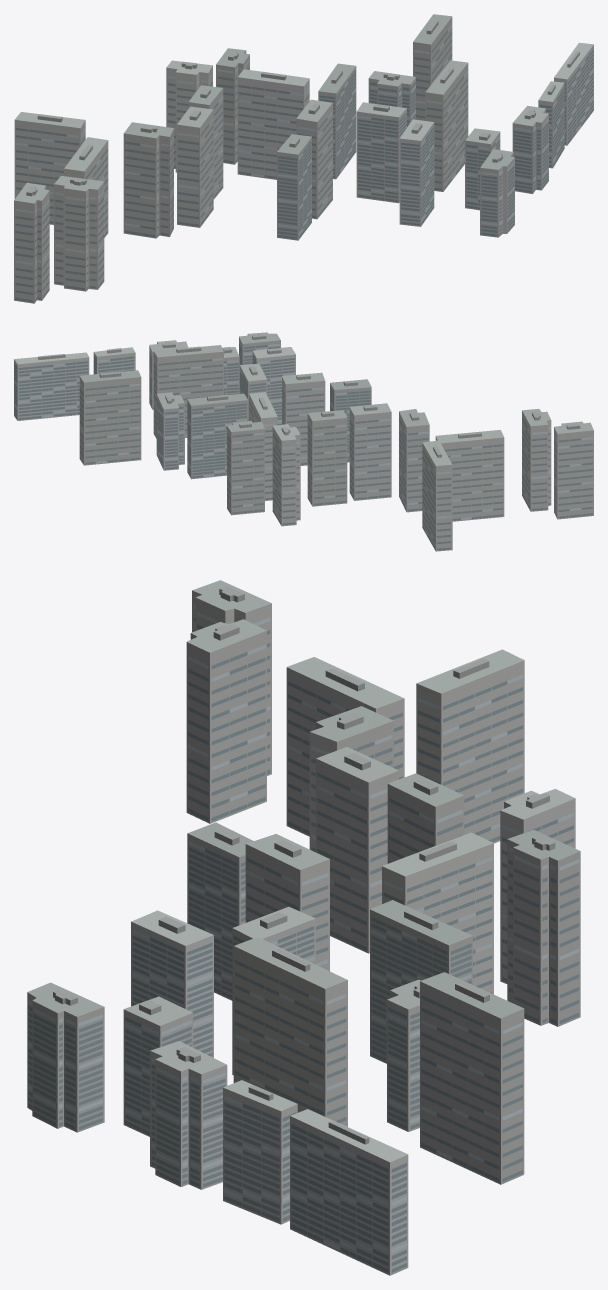
Rendered from apt-a15288814.glb.
The picture shows the model from 3 angles, top to bottom: view 1: azimuth 30°, elevation 25°; view 2: azimuth 150°, elevation 25°; view 3: azimuth 270°, elevation 25°; orthographic projection. The views are drawn at different scales.
Parts seen in each view (by area): view 1: apt-a15288814; view 2: apt-a15288814; view 3: apt-a15288814.
Boxes of the visible parts, x1=… form: apt-a15288814: x1=14, y1=14, x2=593, y2=303; apt-a15288814: x1=14, y1=332, x2=593, y2=551; apt-a15288814: x1=27, y1=580, x2=580, y2=1275.
Bounding box in the file's own units: 464 × 73 × 207.
